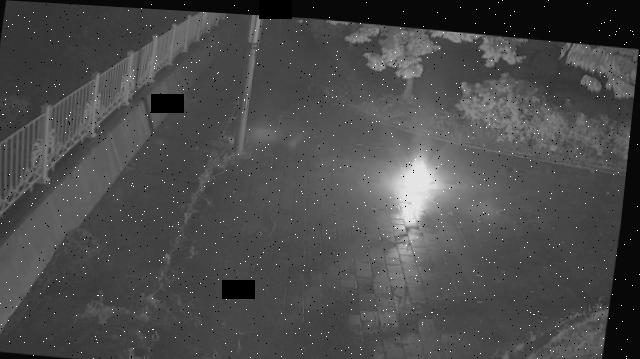fire: (389, 150, 448, 216)
